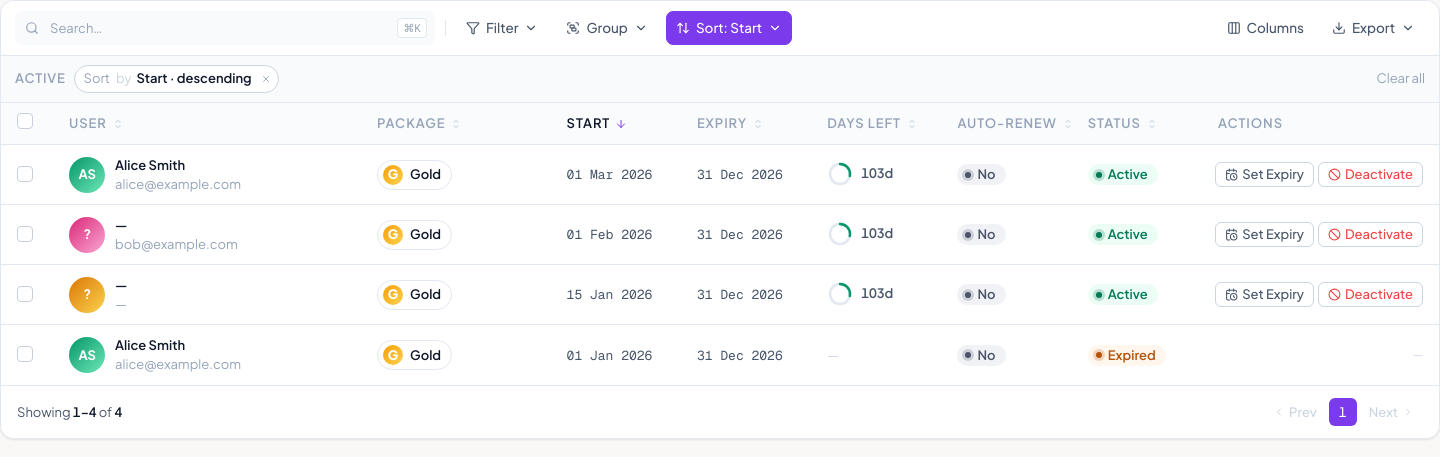
PremiumDealerSubscriptionsTable group by user › offers a User option in the group menu
Click the button "Group": (607,28) [556,11,658,45]
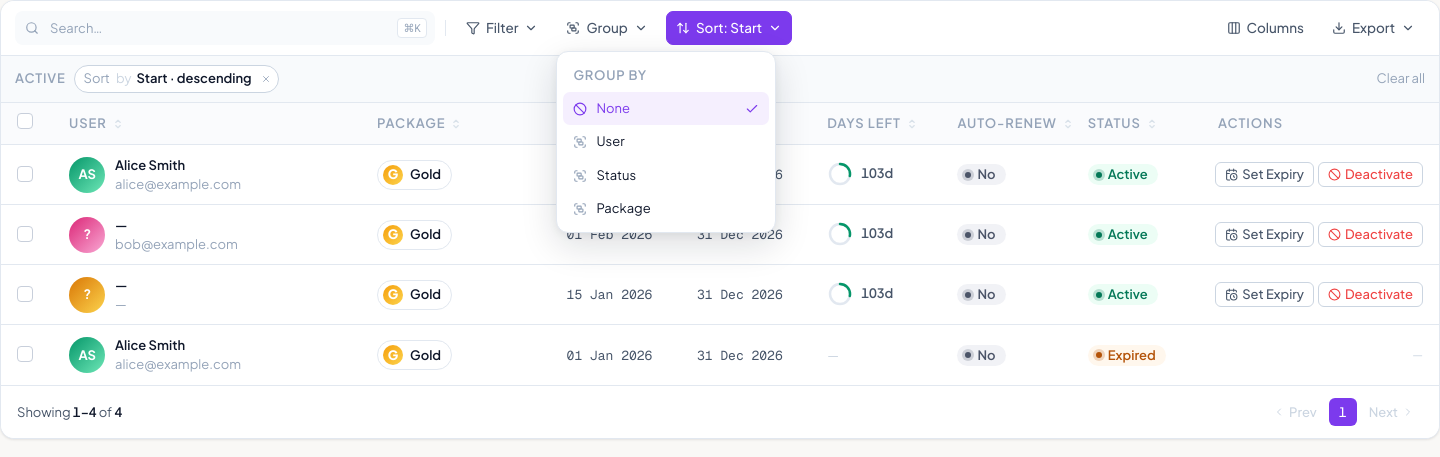
Now the button "User" is shown, box [563,125,769,159]
